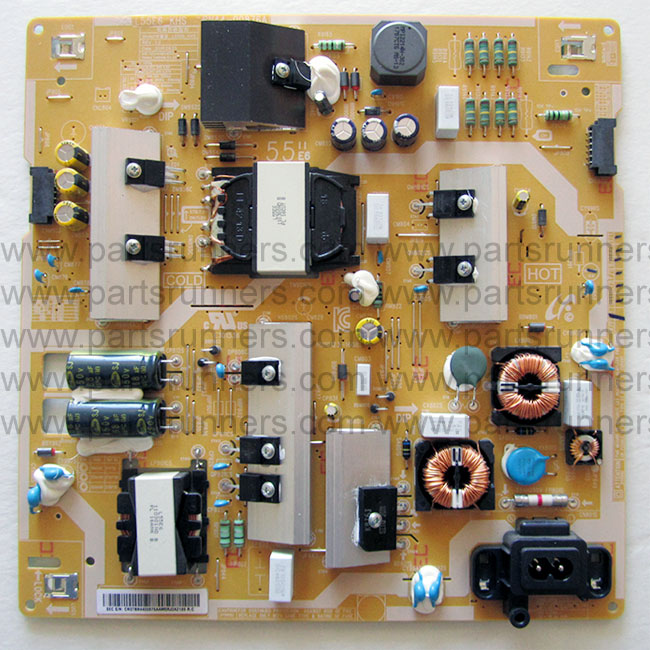capacitor: (355, 109, 390, 156), (387, 111, 428, 148), (324, 116, 362, 152)
